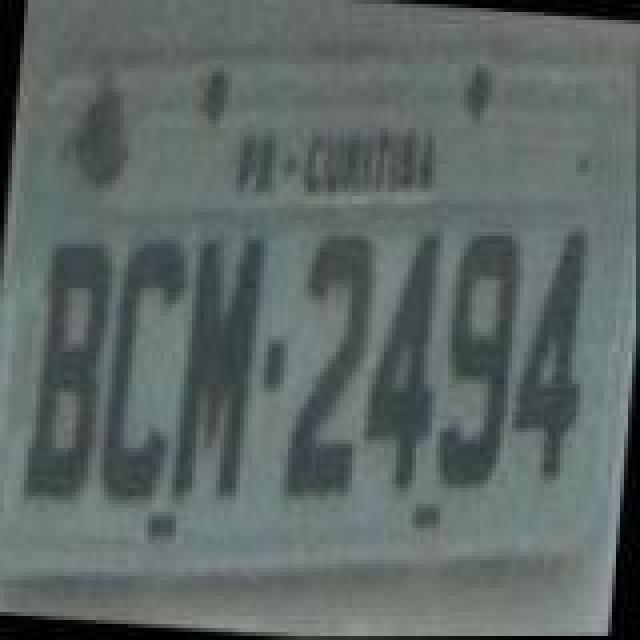2: (288, 228, 380, 504)
4: (360, 226, 452, 490), (506, 226, 594, 486)
9: (436, 230, 528, 502)
B: (22, 236, 118, 508)
C: (94, 230, 190, 506)
M: (174, 224, 270, 508)
